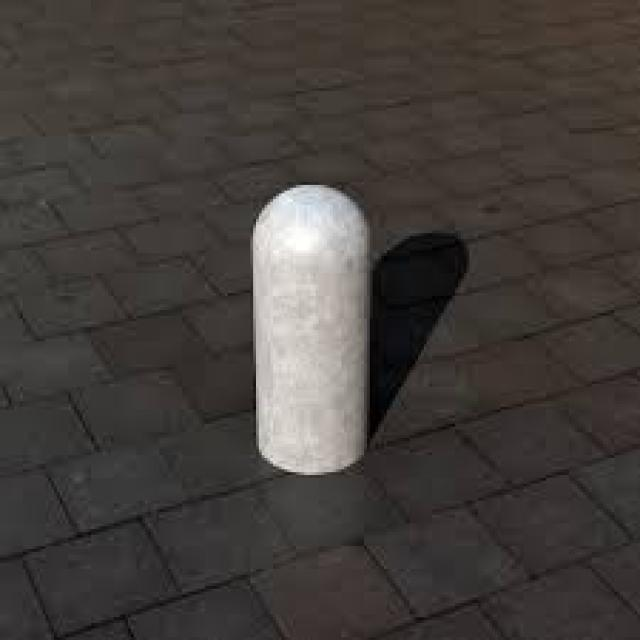bollard: (237, 175, 382, 471)
